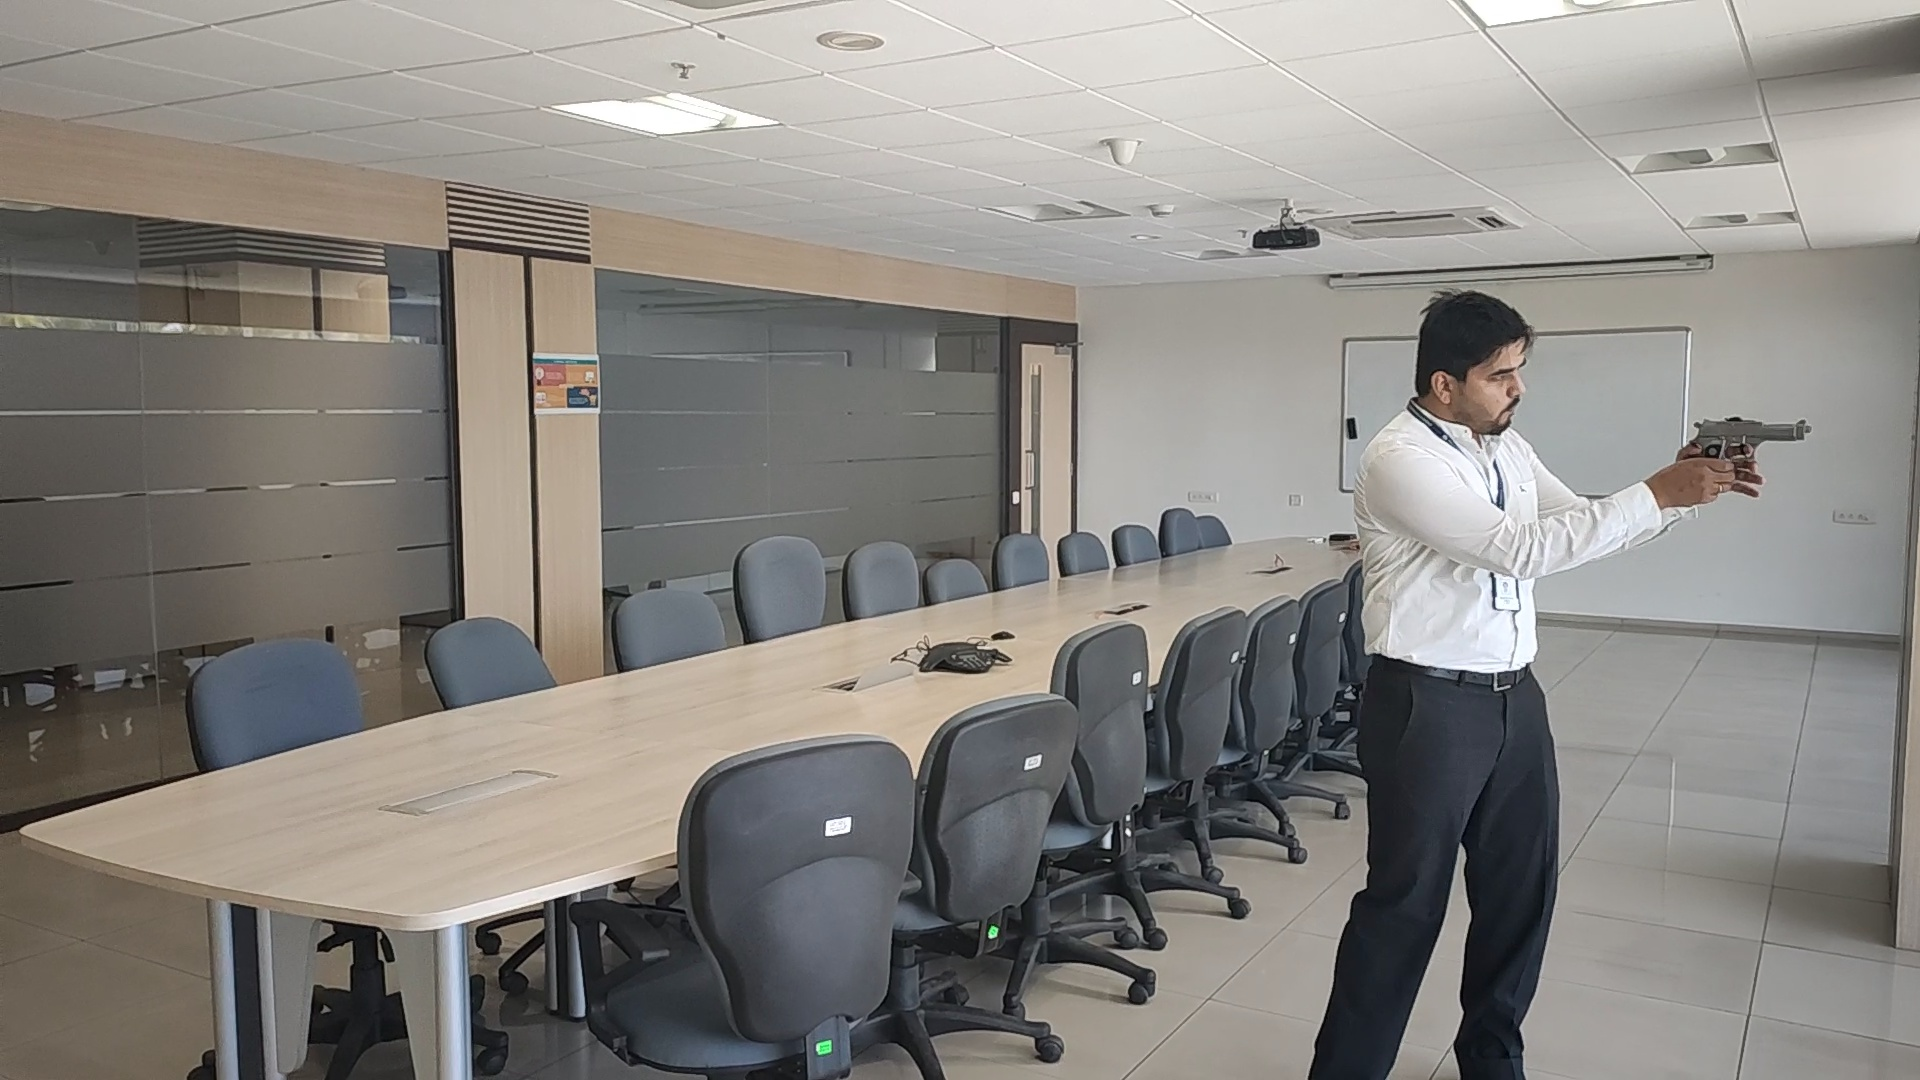gun: (1691, 415, 1813, 458)
